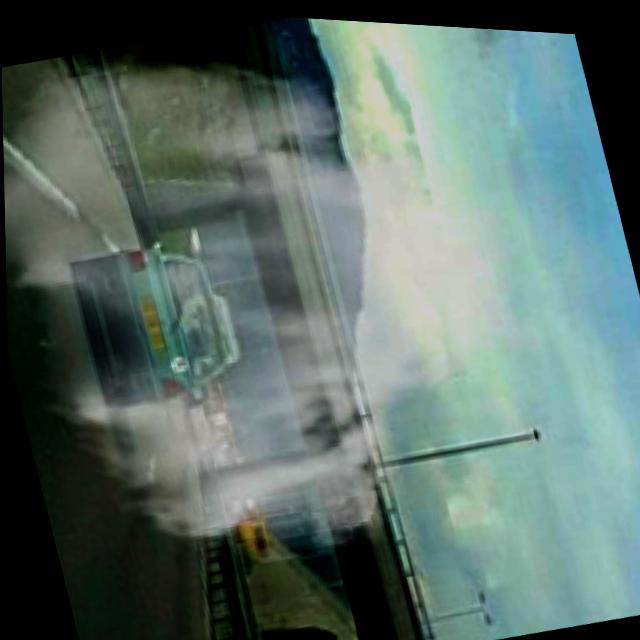Smoke: (1, 13, 595, 603)
